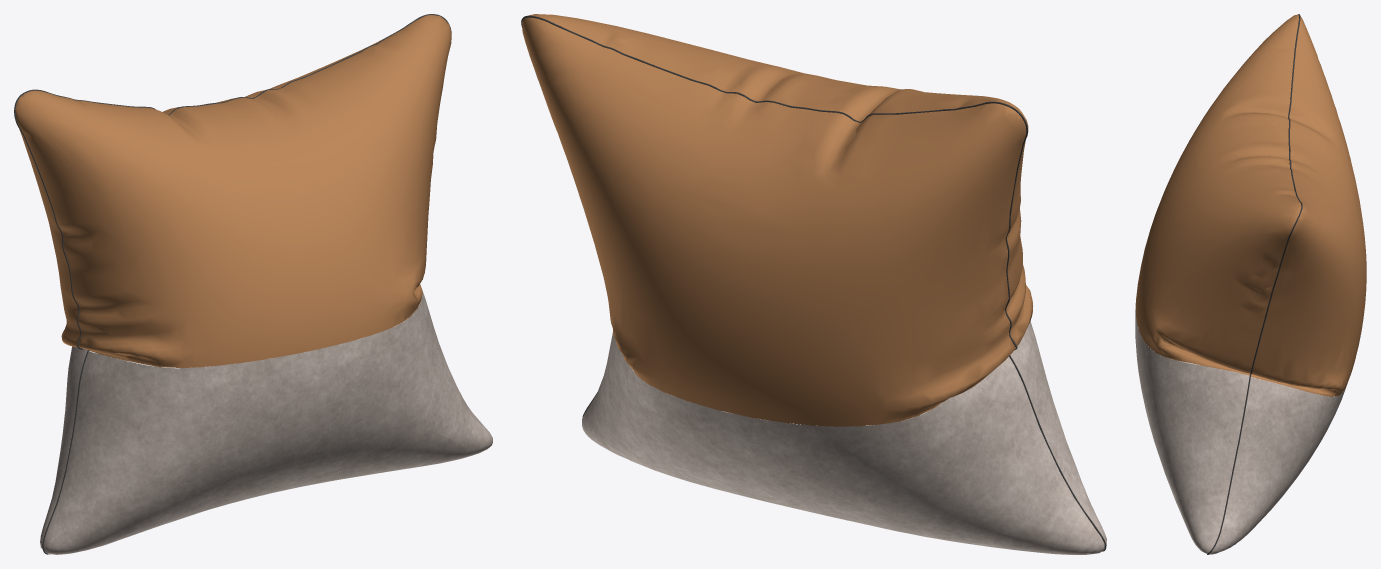
Rendered from william.gltf.
3 views of the same model, side by side, from view 1: azimuth 30°, elevation 25°; view 2: azimuth 150°, elevation 25°; view 3: azimuth 270°, elevation 25° (orthographic). The views are drawn at different scales.
Parts seen in each view (by area): view 1: willian_low; view 2: willian_low; view 3: willian_low.
Part boxes in pixels (x1,y1,x2,y2): willian_low: [14, 14, 492, 554]; willian_low: [521, 14, 1106, 554]; willian_low: [1135, 14, 1366, 554].
Size of the model in its own units: 0.6056 by 0.5297 by 0.304.
1 material, 1 textured.
